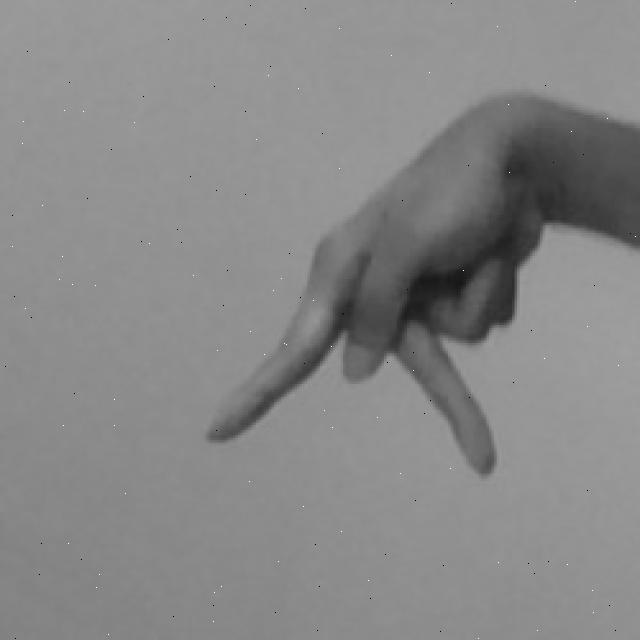P: (197, 79, 640, 491)
